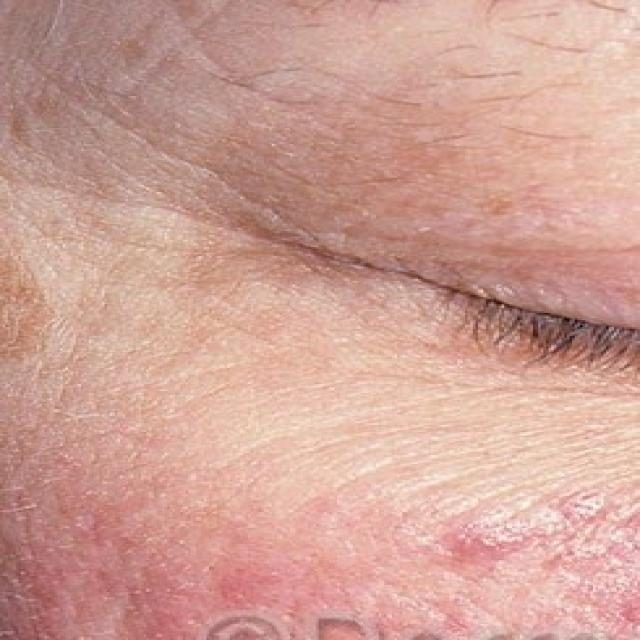Rosacea: (0, 472, 639, 640)
